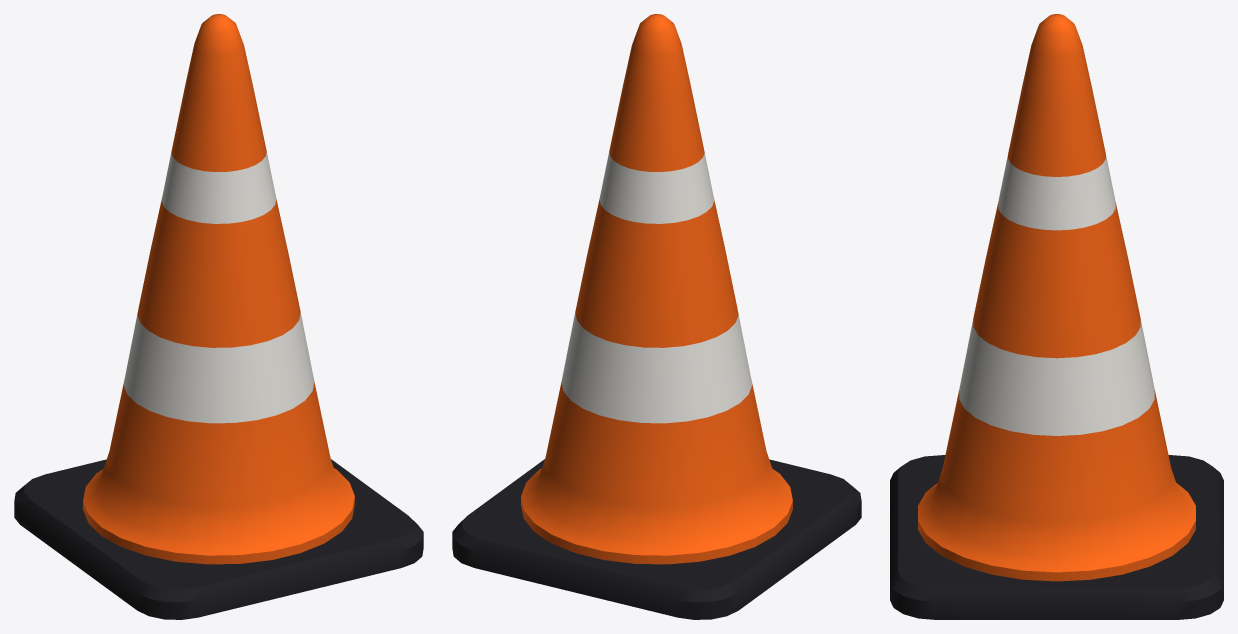
The model's file is traffic_cone.glb.
The picture shows the model from 3 angles, left to right: view 1: azimuth 30°, elevation 25°; view 2: azimuth 150°, elevation 25°; view 3: azimuth 270°, elevation 25°; orthographic projection. The views are drawn at different scales.
Parts seen in each view (by area): view 1: traffic_cone; view 2: traffic_cone; view 3: traffic_cone.
Boxes of the visible parts, box(x1,y1,x2,y2) form: traffic_cone: box(14, 14, 423, 619); traffic_cone: box(452, 14, 861, 619); traffic_cone: box(890, 14, 1223, 619).
Size of the model in its own units: 0.4 by 0.706 by 0.4.
